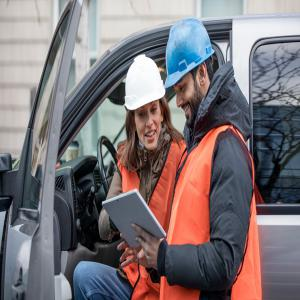blue: (165, 18, 217, 129)
white: (124, 53, 166, 152)
